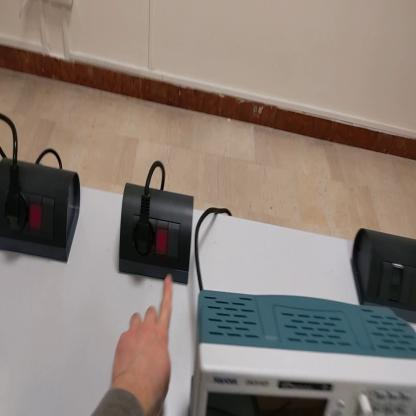hand: (111, 274, 176, 408)
oscilloscope: (193, 291, 415, 413)
socket: (2, 157, 82, 264), (120, 182, 196, 286)
